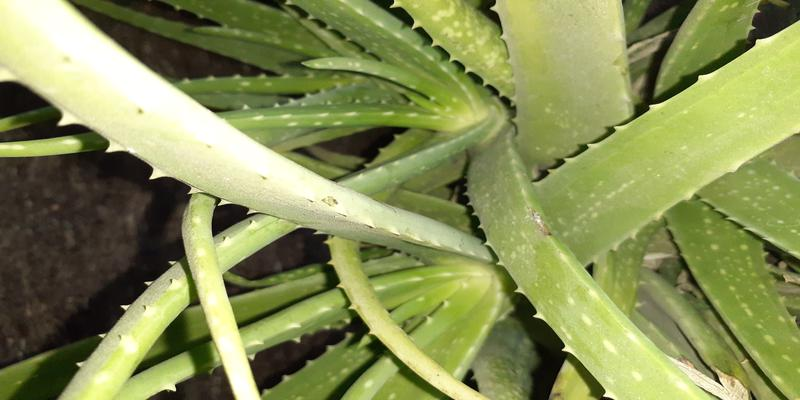Aloevera: (232, 43, 756, 346)
